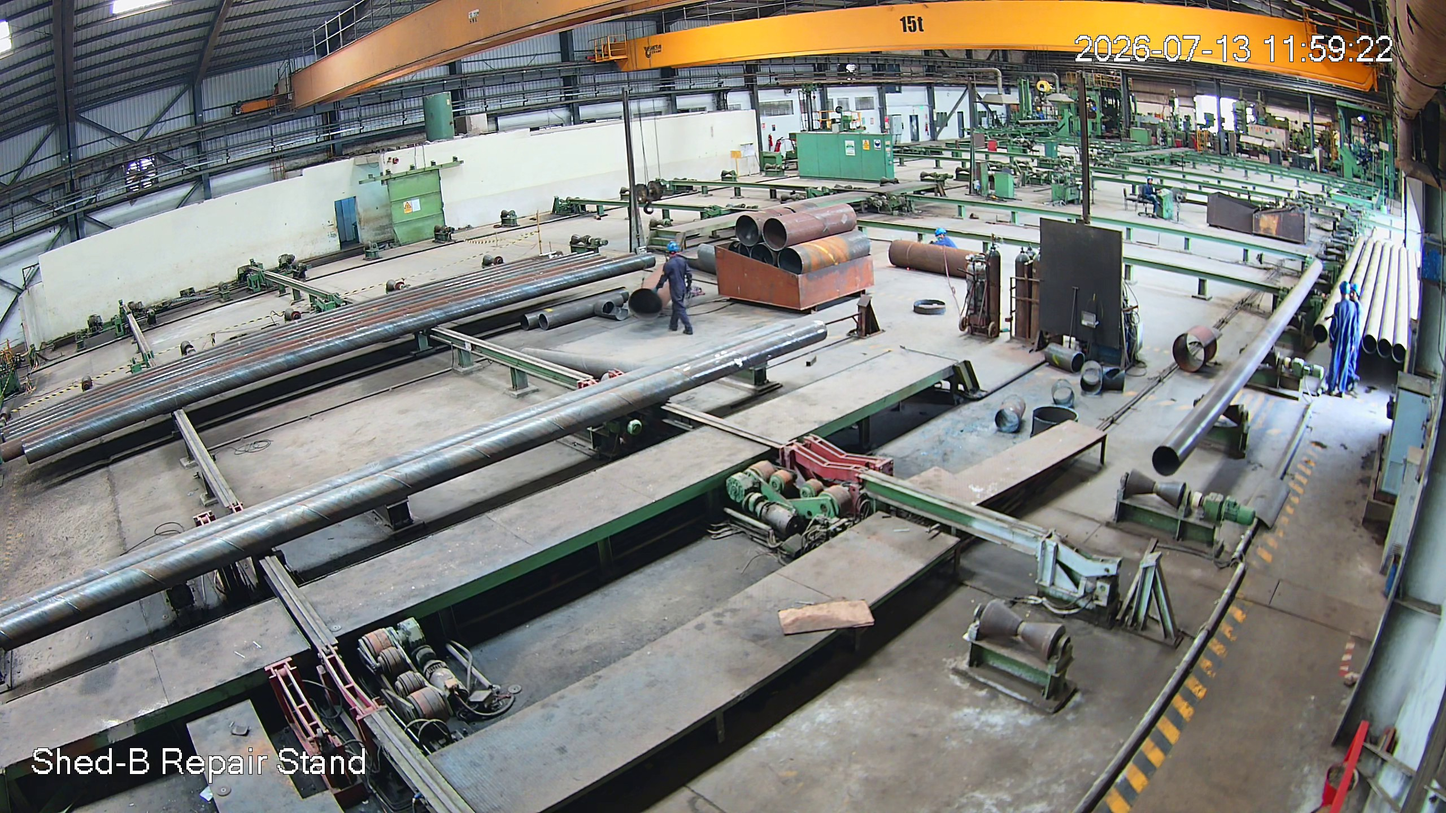Helmet: (667, 238, 681, 260)
Person: (661, 242, 693, 336)
